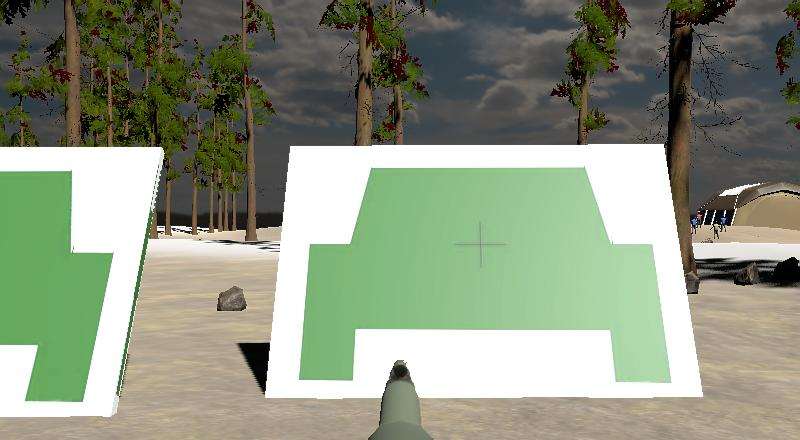Human: (689, 212, 702, 234), (709, 223, 718, 240), (721, 216, 729, 234)
